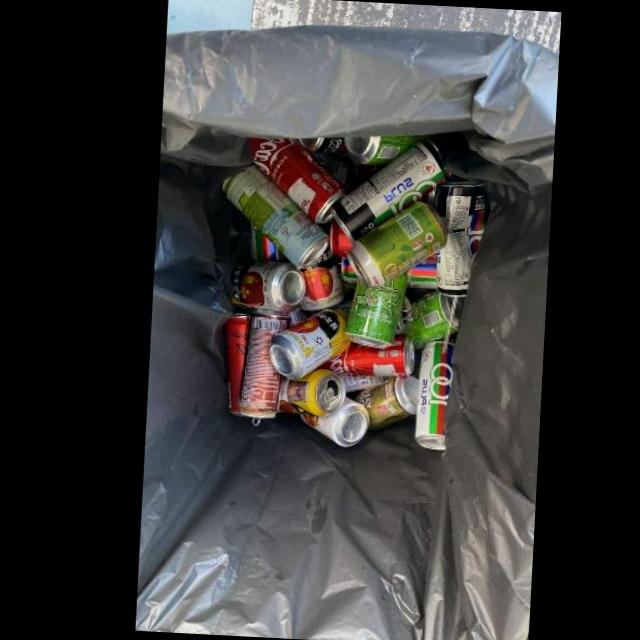nhom: (330, 139, 451, 244), (223, 165, 331, 269), (347, 200, 446, 289), (250, 138, 347, 224), (238, 309, 291, 426), (436, 181, 487, 297), (269, 309, 351, 380), (346, 272, 408, 350), (414, 341, 455, 450), (401, 290, 466, 351), (316, 337, 415, 377), (230, 262, 306, 312), (355, 376, 419, 431), (300, 397, 369, 447), (277, 369, 346, 417), (300, 242, 345, 312), (342, 257, 437, 289), (344, 134, 435, 165), (224, 313, 250, 416), (248, 218, 292, 263), (298, 138, 347, 153)
ong_hut_nhua: (441, 297, 459, 354)
